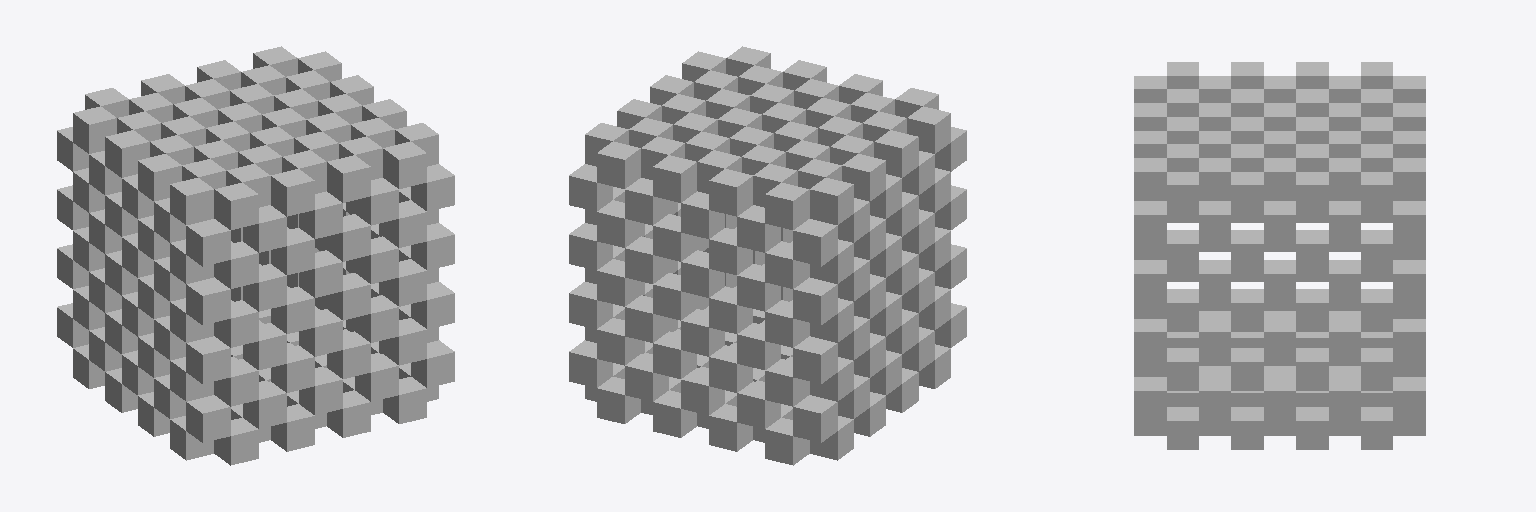
Rendered from Tree Leaves Dark.obj.
The picture shows the model from 3 angles: view 1: azimuth 30°, elevation 25°; view 2: azimuth 150°, elevation 25°; view 3: azimuth 270°, elevation 25°; orthographic projection.
Parts seen in each view (by area): view 1: Tree Leaves Dark; view 2: Tree Leaves Dark; view 3: Tree Leaves Dark.
Boxes of the visible parts, x1=… form: Tree Leaves Dark: x1=57, y1=46, x2=454, y2=465; Tree Leaves Dark: x1=569, y1=46, x2=966, y2=465; Tree Leaves Dark: x1=1134, y1=62, x2=1425, y2=449.
Bounding box in the file's own units: 9 × 9 × 9.